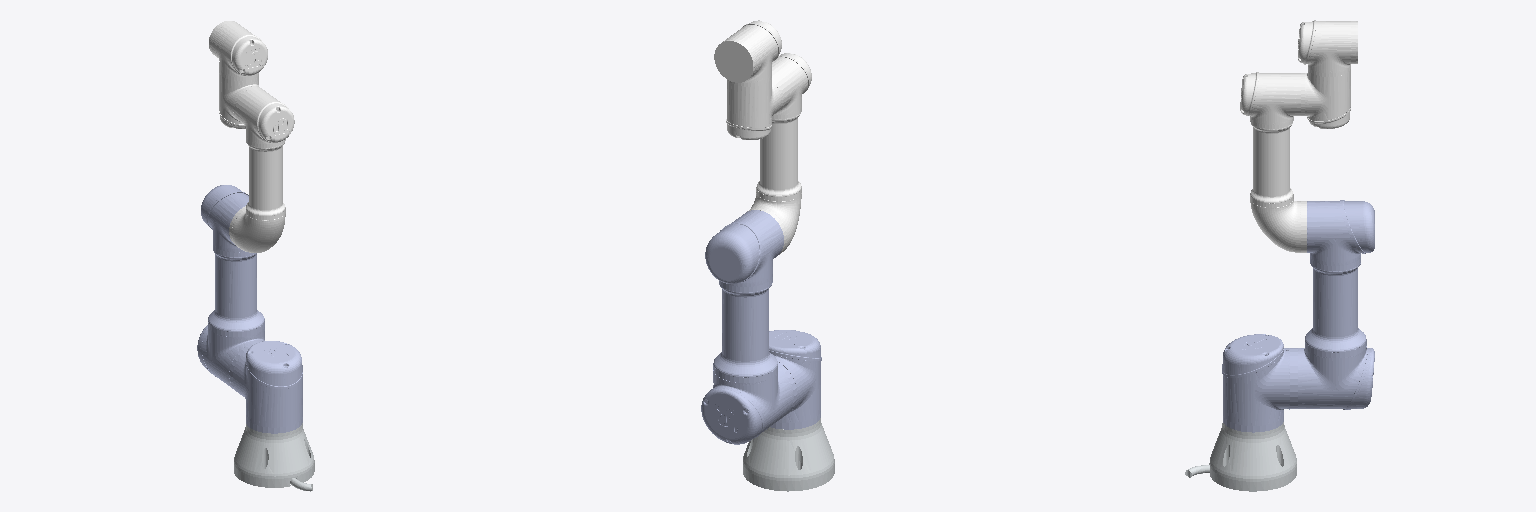
URDF robot description (UR3.1):
<?xml version="1.0" encoding="utf-8"?>
<!-- This URDF was automatically created by SolidWorks to URDF Exporter! Originally created by [author] ([email redacted]) 
     Commit Version: 1.6.0-1-g15f4949  Build Version: 1.6.7594.29634
     For more information, please see http://wiki.ros.org/sw_urdf_exporter -->
<robot
  name="UR3.1">
  <link
    name="base_link">
    <inertial>
      <origin
        xyz="3.8795E-05 0.04622 0.00080904"
        rpy="0 0 0" />
      <mass
        value="0.61577" />
      <inertia
        ixx="0.00076128"
        ixy="3.5088E-07"
        ixz="-3.0273E-07"
        iyy="0.0010029"
        iyz="3.469E-06"
        izz="0.00077456" />
    </inertial>
    <visual>
      <origin
        xyz="0 0 0"
        rpy="0 0 0" />
      <geometry>
        <mesh
          filename="package://UR3.1/meshes/base_link.STL" />
      </geometry>
      <material
        name="">
        <color
          rgba="0.89804 0.91765 0.92941 1" />
      </material>
    </visual>
    <collision>
      <origin
        xyz="0 0 0"
        rpy="0 0 0" />
      <geometry>
        <mesh
          filename="package://UR3.1/meshes/base_link.STL" />
      </geometry>
    </collision>
  </link>
  <link
    name="Link1">
    <inertial>
      <origin
        xyz="-6.72257912203408E-06 0.0559386765855418 0.00733659459348494"
        rpy="0 0 0" />
      <mass
        value="0.755970144616532" />
      <inertia
        ixx="0.00106902654454233"
        ixy="-9.435016846572E-08"
        ixz="1.04110007558327E-07"
        iyy="0.000906561198443075"
        iyz="-0.00013105990532095"
        izz="0.000990192718725811" />
    </inertial>
    <visual>
      <origin
        xyz="0 0 0"
        rpy="0 0 0" />
      <geometry>
        <mesh
          filename="package://UR3.1/meshes/Link1.STL" />
      </geometry>
      <material
        name="">
        <color
          rgba="0.792156862745098 0.819607843137255 0.933333333333333 1" />
      </material>
    </visual>
    <collision>
      <origin
        xyz="0 0 0"
        rpy="0 0 0" />
      <geometry>
        <mesh
          filename="package://UR3.1/meshes/Link1.STL" />
      </geometry>
    </collision>
  </link>
  <joint
    name="joint1"
    type="revolute">
    <origin
      xyz="0 0 0.0844"
      rpy="1.5708 0 -3.1416" />
    <parent
      link="base_link" />
    <child
      link="Link1" />
    <axis
      xyz="0 1 0" />
    <limit
      lower="-3.14"
      upper="3.14"
      effort="100"
      velocity="1" />
  </joint>
  <link
    name="Link2">
    <inertial>
      <origin
        xyz="-2.44304282888834E-06 0.064246275556082 0.105690534180816"
        rpy="0 0 0" />
      <mass
        value="1.80196467316198" />
      <inertia
        ixx="0.00264976874313058"
        ixy="-9.2141487717782E-08"
        ixz="1.05534977283353E-07"
        iyy="0.00251744327389939"
        iyz="-8.11001568779186E-05"
        izz="0.00167005885482448" />
    </inertial>
    <visual>
      <origin
        xyz="0 0 0"
        rpy="0 0 0" />
      <geometry>
        <mesh
          filename="package://UR3.1/meshes/Link2.STL" />
      </geometry>
      <material
        name="">
        <color
          rgba="0.792156862745098 0.819607843137255 0.933333333333333 1" />
      </material>
    </visual>
    <collision>
      <origin
        xyz="0 0 0"
        rpy="0 0 0" />
      <geometry>
        <mesh
          filename="package://UR3.1/meshes/Link2.STL" />
      </geometry>
    </collision>
  </link>
  <joint
    name="joint2"
    type="revolute">
    <origin
      xyz="0 0.0675 0.05235"
      rpy="1.5708 0 -3.1416" />
    <parent
      link="Link1" />
    <child
      link="Link2" />
    <axis
      xyz="0 -1 0" />
    <limit
      lower="-3.14"
      upper="3.14"
      effort="100"
      velocity="1" />
  </joint>
  <link
    name="Link3">
    <inertial>
      <origin
        xyz="-0.0051483 -0.11117 -6.589E-07"
        rpy="0 0 0" />
      <mass
        value="0.96243" />
      <inertia
        ixx="0.001015"
        ixy="4.6189E-05"
        ixz="1.2591E-08"
        iyy="0.0005428"
        iyz="-8.3435E-09"
        izz="0.0010729" />
    </inertial>
    <visual>
      <origin
        xyz="0 0 0"
        rpy="0 0 0" />
      <geometry>
        <mesh
          filename="package://UR3.1/meshes/Link3.STL" />
      </geometry>
      <material
        name="">
        <color
          rgba="1 1 1 1" />
      </material>
    </visual>
    <collision>
      <origin
        xyz="0 0 0"
        rpy="0 0 0" />
      <geometry>
        <mesh
          filename="package://UR3.1/meshes/Link3.STL" />
      </geometry>
    </collision>
  </link>
  <joint
    name="joint3"
    type="revolute">
    <origin
      xyz="0 -0.02535 0.24365"
      rpy="-1.5708 0 -1.5708" />
    <parent
      link="Link2" />
    <child
      link="Link3" />
    <axis
      xyz="1 0 0" />
    <limit
      lower="-3.14"
      upper="3.14"
      effort="100"
      velocity="1" />
  </joint>
  <link
    name="Link4">
    <inertial>
      <origin
        xyz="0.0059214 -0.0005174 1.4077E-07"
        rpy="0 0 0" />
      <mass
        value="0.32522" />
      <inertia
        ixx="0.00019461"
        ixy="1.8339E-05"
        ixz="2.5704E-10"
        iyy="0.00019911"
        iyz="7.6631E-10"
        izz="0.00022621" />
    </inertial>
    <visual>
      <origin
        xyz="0 0 0"
        rpy="0 0 0" />
      <geometry>
        <mesh
          filename="package://UR3.1/meshes/Link4.STL" />
      </geometry>
      <material
        name="">
        <color
          rgba="1 1 1 1" />
      </material>
    </visual>
    <collision>
      <origin
        xyz="0 0 0"
        rpy="0 0 0" />
      <geometry>
        <mesh
          filename="package://UR3.1/meshes/Link4.STL" />
      </geometry>
    </collision>
  </link>
  <joint
    name="joint4"
    type="revolute">
    <origin
      xyz="-0.0834 -0.213 0"
      rpy="-3.1416 0 0" />
    <parent
      link="Link3" />
    <child
      link="Link4" />
    <axis
      xyz="1 0 0" />
    <limit
      lower="-3.14"
      upper="3.14"
      effort="100"
      velocity="1" />
  </joint>
  <link
    name="Link5">
    <inertial>
      <origin
        xyz="0.00592139514298895 0.000517400306516258 -1.69757060907155E-07"
        rpy="0 0 0" />
      <mass
        value="0.325224003187047" />
      <inertia
        ixx="0.000194604977488079"
        ixy="-1.83387919982607E-05"
        ixz="-2.70364349647352E-10"
        iyy="0.000199105679234156"
        iyz="8.25448953543642E-10"
        izz="0.000226212705078878" />
    </inertial>
    <visual>
      <origin
        xyz="0 0 0"
        rpy="0 0 0" />
      <geometry>
        <mesh
          filename="package://UR3.1/meshes/Link5.STL" />
      </geometry>
      <material
        name="">
        <color
          rgba="1 1 1 1" />
      </material>
    </visual>
    <collision>
      <origin
        xyz="0 0 0"
        rpy="0 0 0" />
      <geometry>
        <mesh
          filename="package://UR3.1/meshes/Link5.STL" />
      </geometry>
    </collision>
  </link>
  <joint
    name="joint5"
    type="revolute">
    <origin
      xyz="0 0.0834 0"
      rpy="0 0 -1.5708" />
    <parent
      link="Link4" />
    <child
      link="Link5" />
    <axis
      xyz="-1 0 0" />
    <limit
      lower="-3.14"
      upper="3.14"
      effort="100"
      velocity="1" />
  </joint>
  <link
    name="Link6">
    <inertial>
      <origin
        xyz="-1.4879E-10 0.00010329 -0.021073"
        rpy="0 0 0" />
      <mass
        value="0.11536" />
      <inertia
        ixx="4.2472E-05"
        ixy="-7.1197E-13"
        ixz="1.8571E-12"
        iyy="4.2687E-05"
        iyz="1.0322E-07"
        izz="5.9069E-05" />
    </inertial>
    <visual>
      <origin
        xyz="0 0 0"
        rpy="0 0 0" />
      <geometry>
        <mesh
          filename="package://UR3.1/meshes/Link6.STL" />
      </geometry>
      <material
        name="">
        <color
          rgba="1 1 1 1" />
      </material>
    </visual>
    <collision>
      <origin
        xyz="0 0 0"
        rpy="0 0 0" />
      <geometry>
        <mesh
          filename="package://UR3.1/meshes/Link6.STL" />
      </geometry>
    </collision>
  </link>
  <joint
    name="joint6"
    type="revolute">
    <origin
      xyz="0 -0.0409 0"
      rpy="1.5708 -1.5708 0" />
    <parent
      link="Link5" />
    <child
      link="Link6" />
    <axis
      xyz="0 0 1" />
    <limit
      lower="-3.14"
      upper="3.14"
      effort="100"
      velocity="1" />
  </joint>
</robot>

--- Render facts (derived) ---
The picture shows the robot from 3 angles, left to right: view 1: azimuth 30°, elevation 25°; view 2: azimuth 150°, elevation 25°; view 3: azimuth 270°, elevation 25°; orthographic projection.
Robot: UR3.1 — 7 links, 6 joints (6 revolute); root link base_link; default pose: all joints at 0.
Links seen in each view (by area): view 1: Link2, Link3, Link1, base_link, Link5, Link4; view 2: Link2, Link3, base_link, Link1, Link5, Link4; view 3: Link2, Link3, Link1, base_link, Link5, Link4.
Link boxes in pixels (x1,y1,x2,y2): Link2: (197,185,264,391); Link3: (229,88,294,252); Link1: (233,341,302,433); base_link: (234,423,314,491); Link5: (209,21,267,80); Link4: (219,73,261,128); Link2: (701,210,796,444); Link3: (747,53,811,254); base_link: (743,418,834,491); Link1: (769,330,821,429); Link5: (714,20,781,86); Link4: (726,78,782,139); Link2: (1290,200,1374,409); Link3: (1240,72,1306,252); Link1: (1222,334,1289,432); base_link: (1185,422,1296,491); Link5: (1298,20,1357,76); Link4: (1301,69,1350,128).
Size in the robot's own frame: 0.128 by 0.2765 by 0.725 metres.
7 mesh visuals loaded from 7 distinct referenced files (7 binary STL).